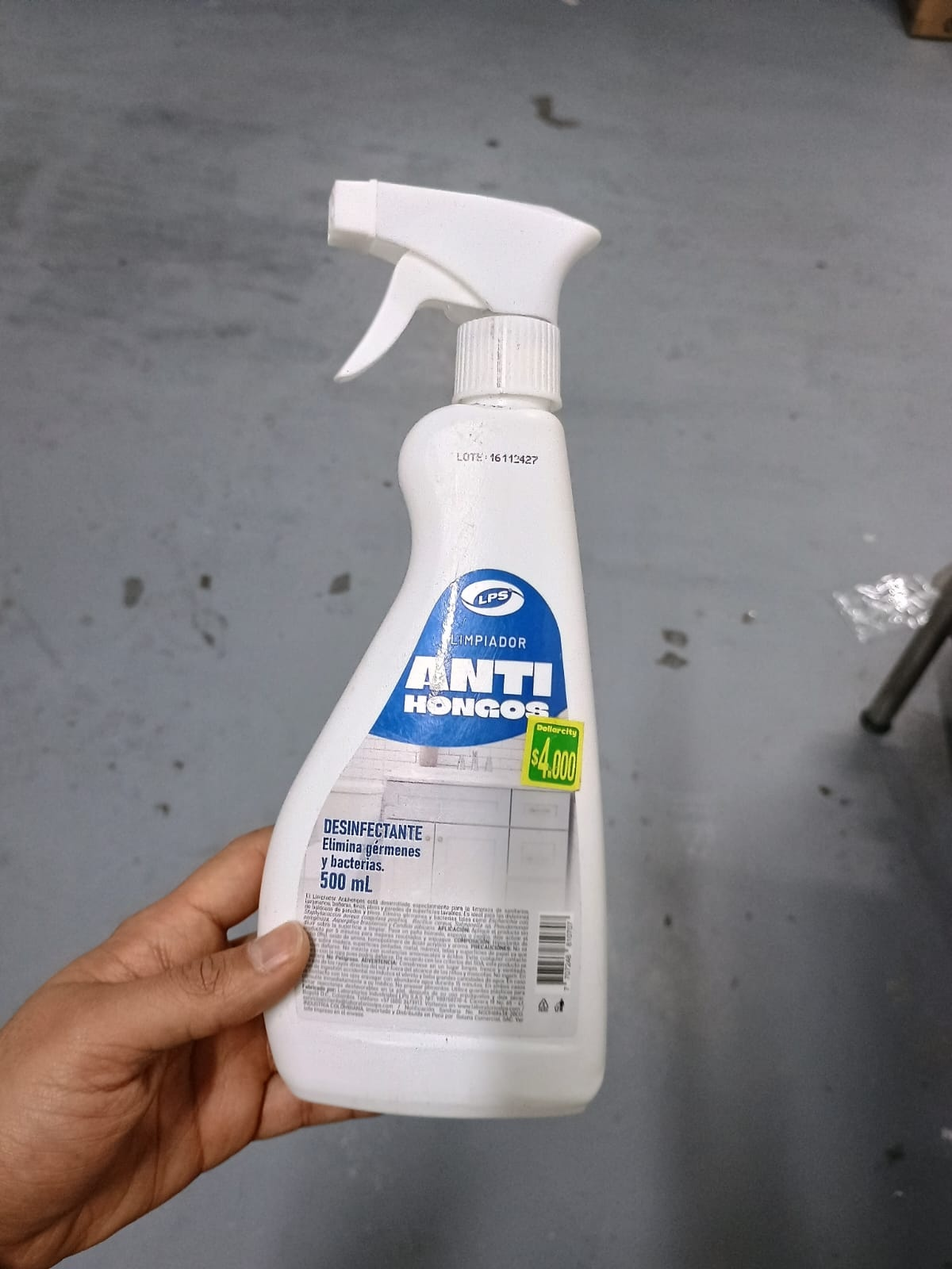Plastico: (257, 177, 609, 1120)
